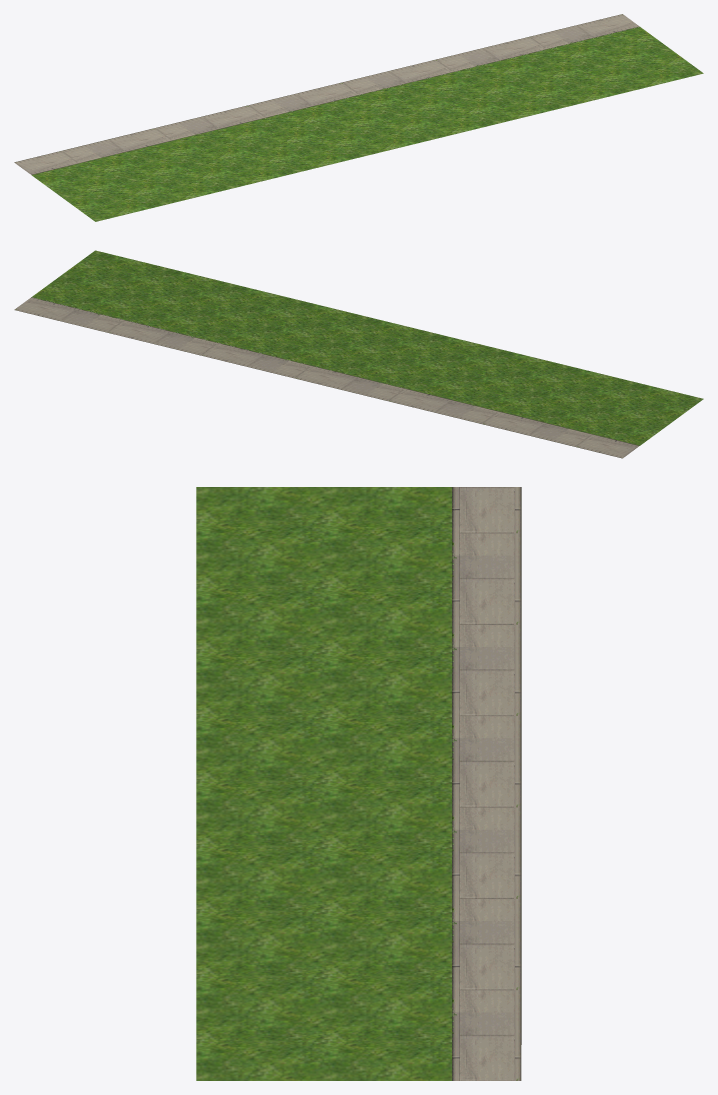
The picture shows the model from 3 angles, top to bottom: view 1: azimuth 30°, elevation 25°; view 2: azimuth 150°, elevation 25°; view 3: azimuth 270°, elevation 25°; orthographic projection. The views are drawn at different scales.
Parts seen in each view (by area): view 1: Rectangle02; view 2: Rectangle02; view 3: Rectangle02.
Boxes of the visible parts, <box> form: Rectangle02: <box>14,14,703,221</box>; Rectangle02: <box>14,250,703,458</box>; Rectangle02: <box>196,487,521,1080</box>.
Size of the model in its own units: 8058 by 0.0366 by 1867.
Materials: 2 (2 with a texture image).
